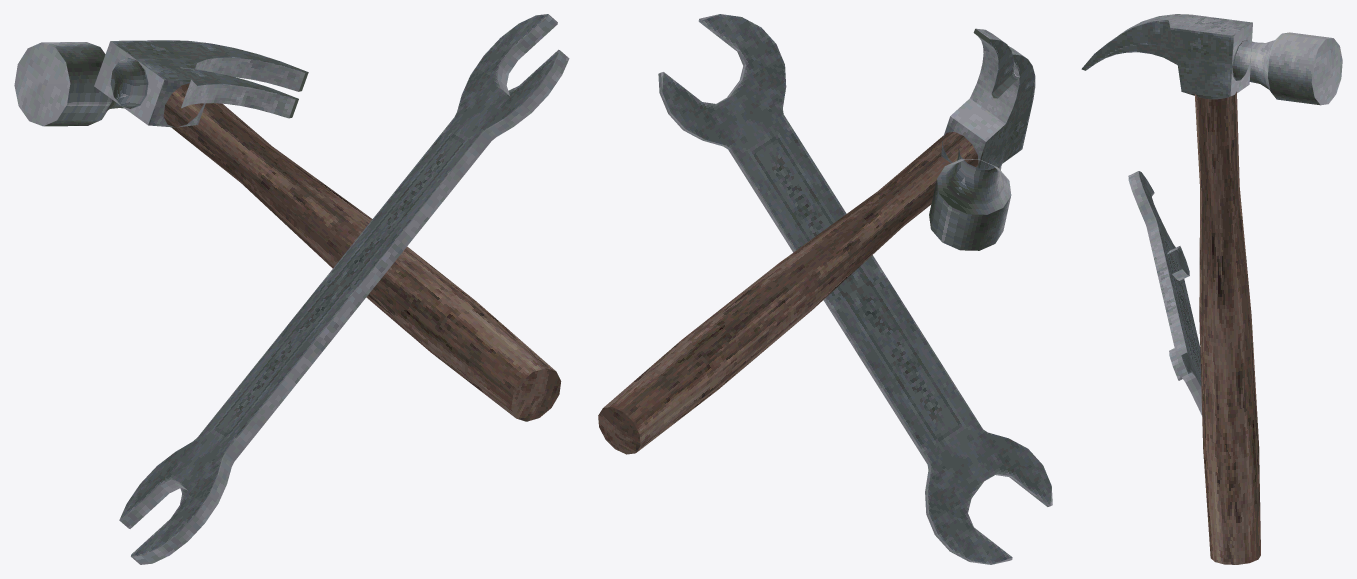
The model's file is ps2_save-icons_stuntman-config.glb.
3 views of the same model, side by side, from view 1: azimuth 30°, elevation 25°; view 2: azimuth 150°, elevation 25°; view 3: azimuth 270°, elevation 25° (orthographic). The views are drawn at different scales.
Visible parts, largest first — view 1: config.ico; view 2: config.ico; view 3: config.ico.
Boxes of the visible parts, x1,y1,x2,y2 form: config.ico: (14,14,569,564); config.ico: (598,14,1052,564); config.ico: (1081,14,1342,564).
Bounding box in the file's own units: 3.77 × 3.95 × 2.12.
Materials: 1 (1 with a texture image).
